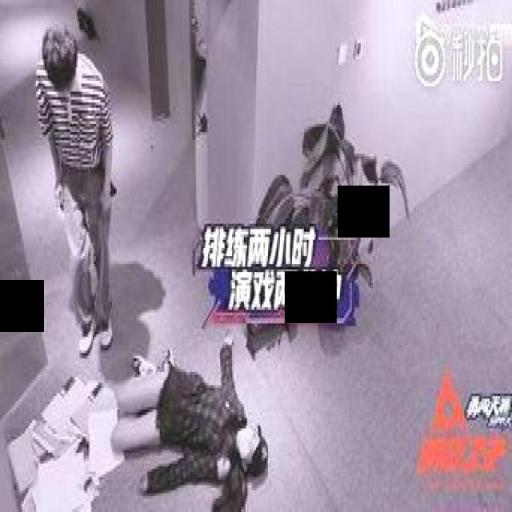Fall: (91, 321, 275, 507)
